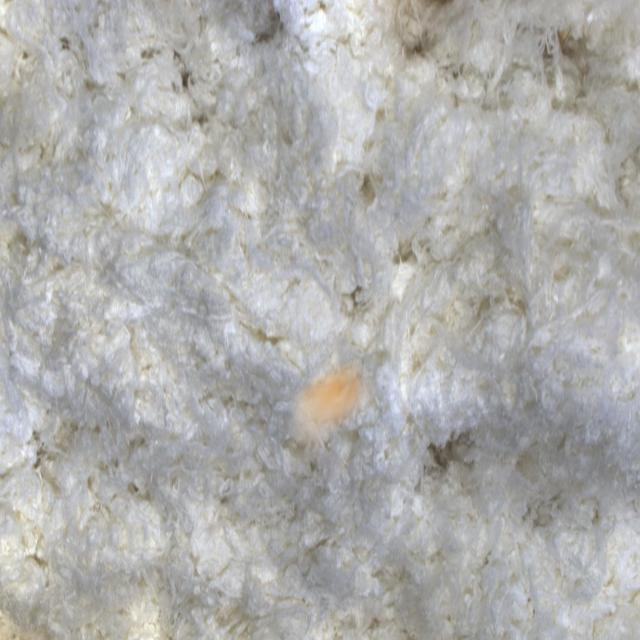dust: (283, 361, 381, 481)
